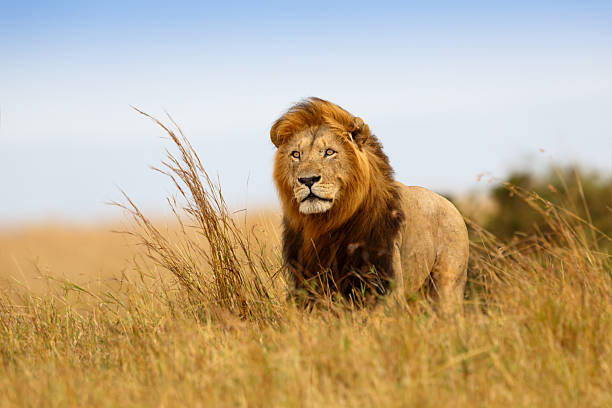lion: (241, 87, 412, 317)
